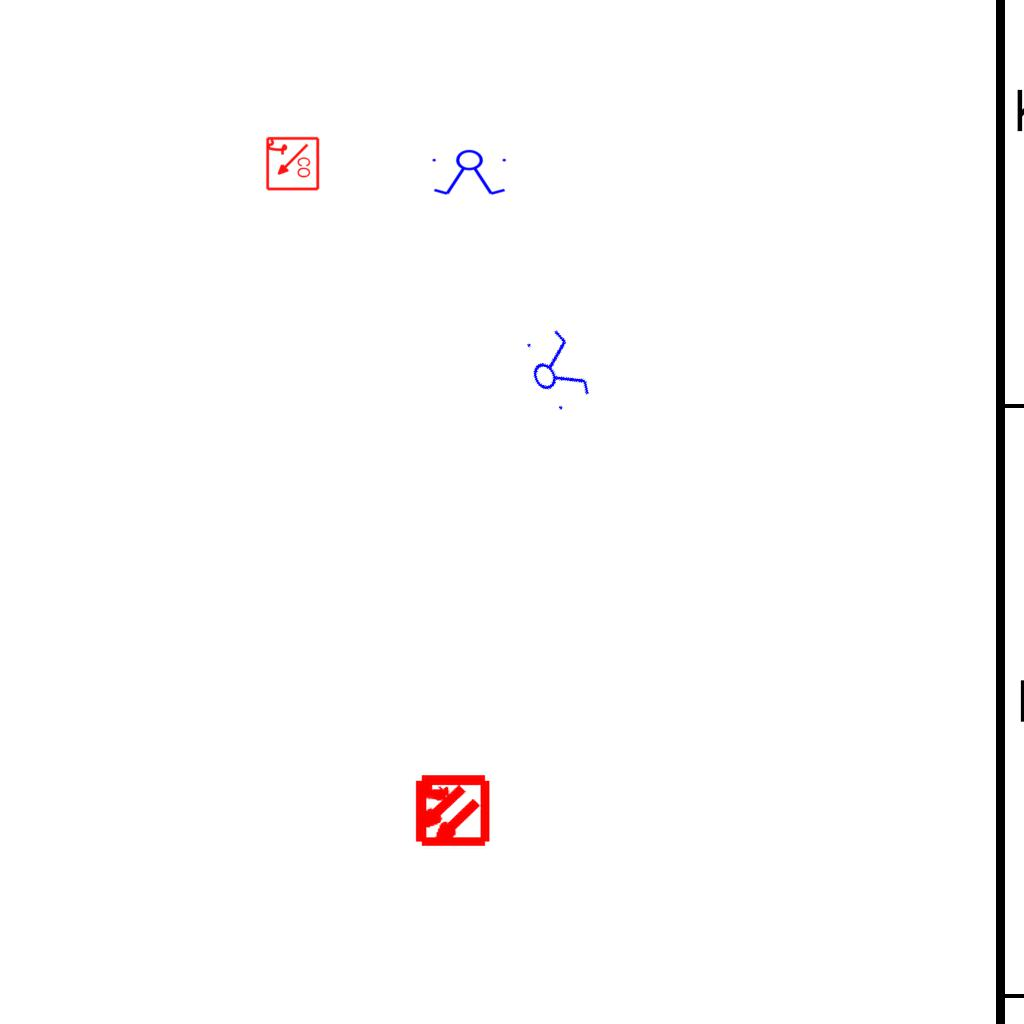OT_Multisensormelder_(Kombination_RMO_WMD): (394, 754, 507, 867)
ROA_Rauchmelder_optisch_mit_Signalgeber_(Sockelsirene): (264, 136, 320, 192)
Serienschalter: (515, 321, 597, 419), (428, 149, 512, 197)
